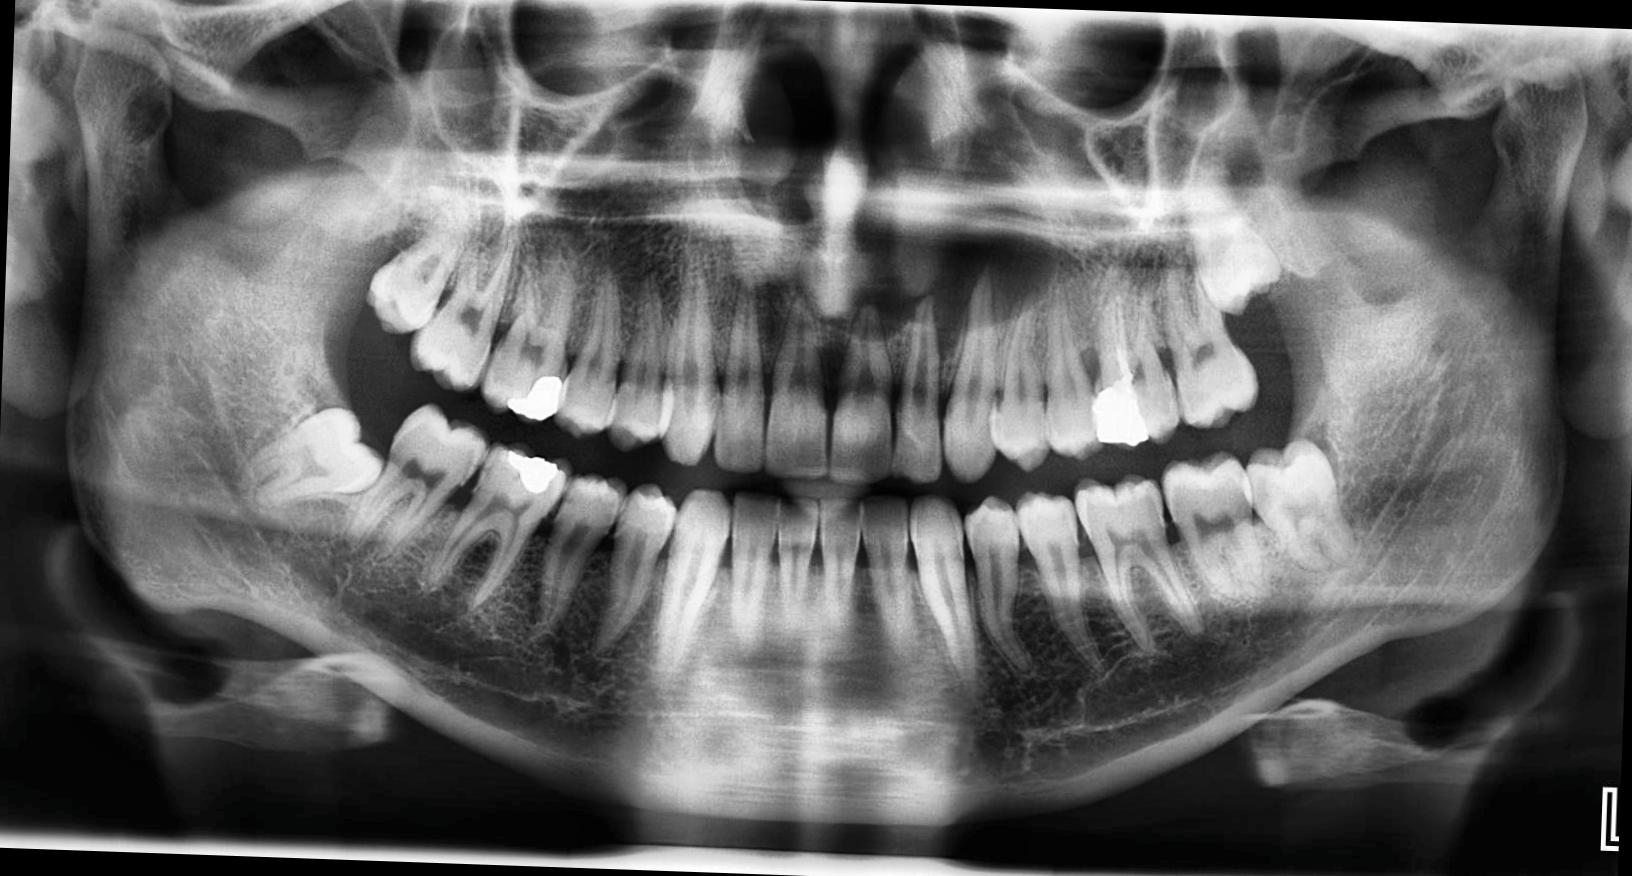radikuler: (791, 132, 1059, 350)
